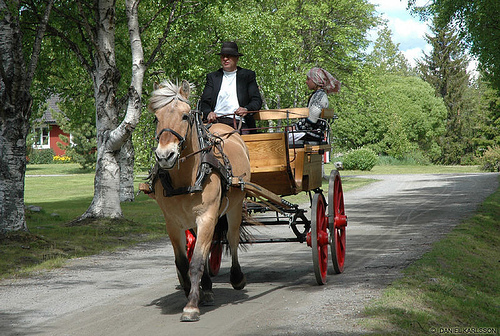horse: (143, 78, 250, 324)
